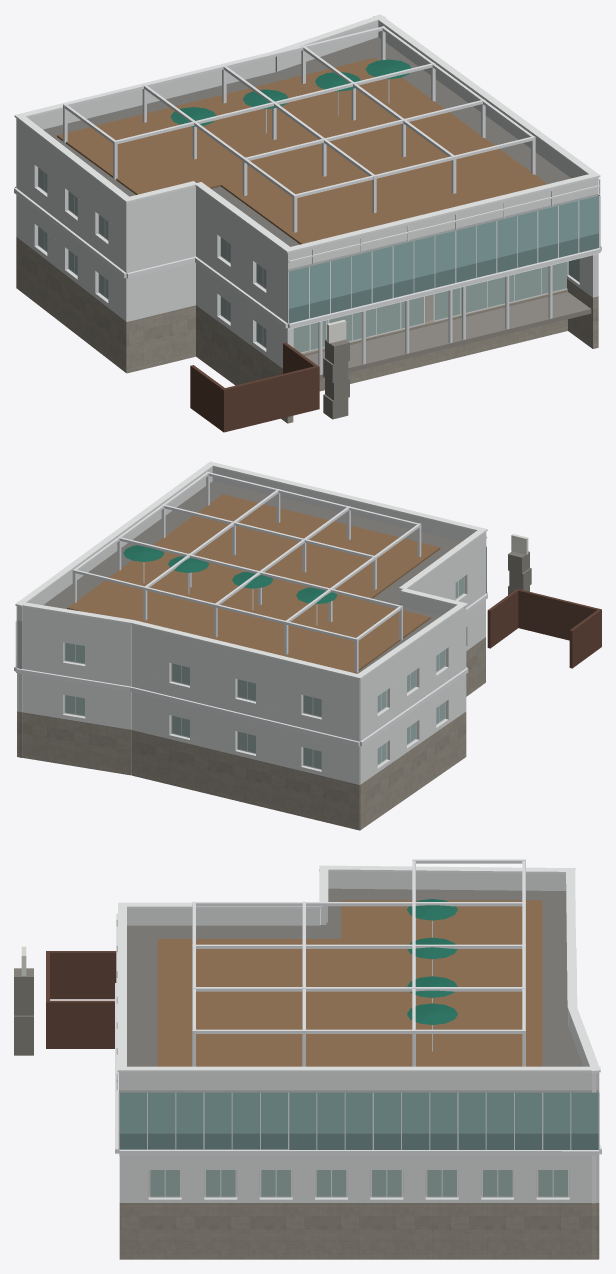
3 renders of one model, top to bottom at view 1: azimuth 30°, elevation 25°; view 2: azimuth 150°, elevation 25°; view 3: azimuth 270°, elevation 25°, orthographic. The views are drawn at different scales.
Parts seen in each view (by area): view 1: w451562734__panel-wall, w451562734__deck-wood, w451562734__plinth-wall, w451562734__steel-white, w451562734__curtain-glass, w451562734__roof, w451562734__trim, w451562734__glass, w451562734__floor-slab, w451562734__corten-wall, w451562734__spandrel-glass, w451562734__band-white (+6 smaller); view 2: w451562734__panel-wall, w451562734__deck-wood, w451562734__plinth-wall, w451562734__steel-white, w451562734__trim, w451562734__roof, w451562734__corten-wall, w451562734__glass, w451562734__band-white, w451562734__parasol-green, w451562734__frame, w451562734__granite-wall; view 3: w451562734__deck-wood, w451562734__panel-wall, w451562734__plinth-wall, w451562734__curtain-glass, w451562734__roof, w451562734__steel-white, w451562734__trim, w451562734__spandrel-glass, w451562734__corten-wall, w451562734__glass, w451562734__band-white, w451562734__parasol-green (+4 smaller).
Boxes of the visible parts, box(x1,y1,x2,y2) form: w451562734__panel-wall: box(16, 21, 598, 368); w451562734__deck-wood: box(57, 57, 547, 244); w451562734__plinth-wall: box(16, 237, 598, 423); w451562734__steel-white: box(63, 26, 600, 374); w451562734__curtain-glass: box(289, 195, 599, 308); w451562734__roof: box(43, 37, 570, 246); w451562734__trim: box(14, 14, 600, 253); w451562734__glass: box(38, 168, 579, 347); w451562734__floor-slab: box(305, 292, 591, 379); w451562734__corten-wall: box(190, 342, 319, 432); w451562734__spandrel-glass: box(289, 233, 598, 323); w451562734__band-white: box(14, 186, 601, 328); w451562734__panel-wall: box(16, 467, 486, 784); w451562734__deck-wood: box(67, 494, 440, 673); w451562734__plinth-wall: box(17, 637, 485, 830); w451562734__steel-white: box(72, 471, 487, 672); w451562734__trim: box(15, 461, 487, 679); w451562734__roof: box(43, 481, 461, 673); w451562734__corten-wall: box(487, 588, 601, 668); w451562734__glass: box(65, 577, 463, 768); w451562734__band-white: box(14, 592, 487, 746); w451562734__parasol-green: box(123, 545, 337, 604); w451562734__frame: box(64, 577, 464, 769); w451562734__granite-wall: box(508, 551, 531, 594); w451562734__deck-wood: box(157, 900, 542, 1066); w451562734__panel-wall: box(119, 871, 599, 1203); w451562734__plinth-wall: box(119, 1170, 599, 1259); w451562734__curtain-glass: box(119, 1092, 598, 1133); w451562734__roof: box(127, 888, 583, 1066); w451562734__steel-white: box(116, 859, 525, 1090); w451562734__trim: box(117, 865, 600, 1072); w451562734__spandrel-glass: box(119, 1133, 598, 1149); w451562734__corten-wall: box(46, 951, 116, 1048); w451562734__glass: box(150, 1170, 567, 1196); w451562734__band-white: box(115, 948, 601, 1155); w451562734__parasol-green: box(407, 899, 457, 1024).
Bounding box in the file's own units: 28.48 × 12.8 × 32.1.
22 materials, 1 textured.
